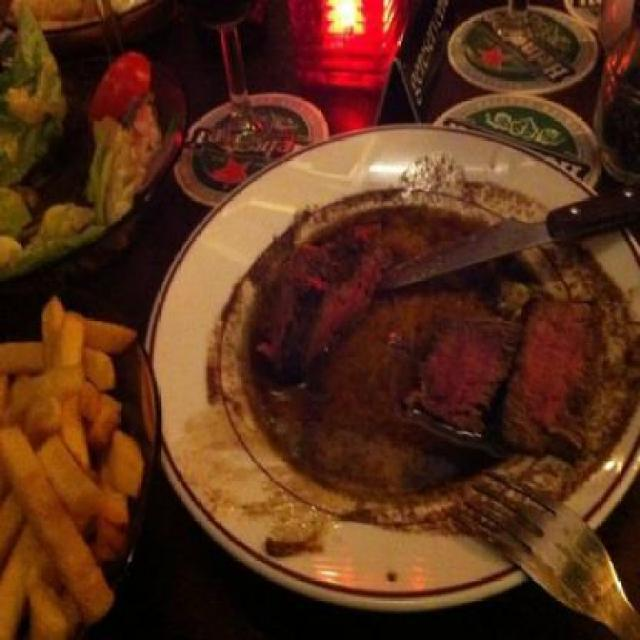French fries: (2, 292, 160, 630)
Steak: (229, 198, 620, 458)
